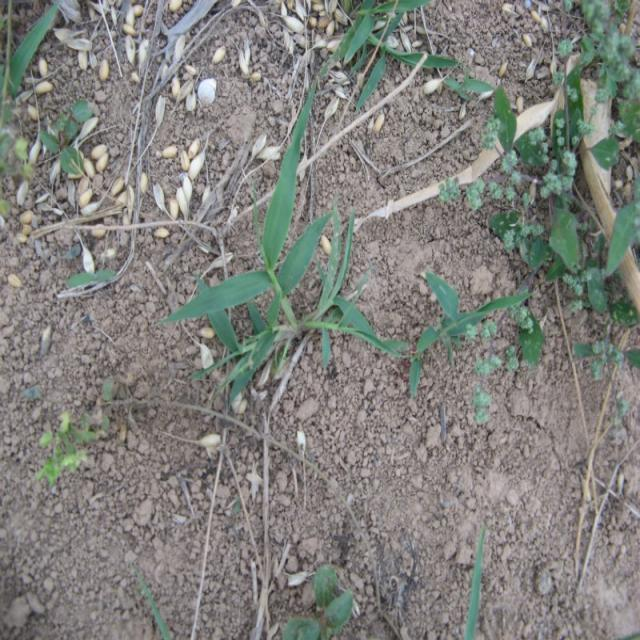bg: (167, 83, 408, 384)
